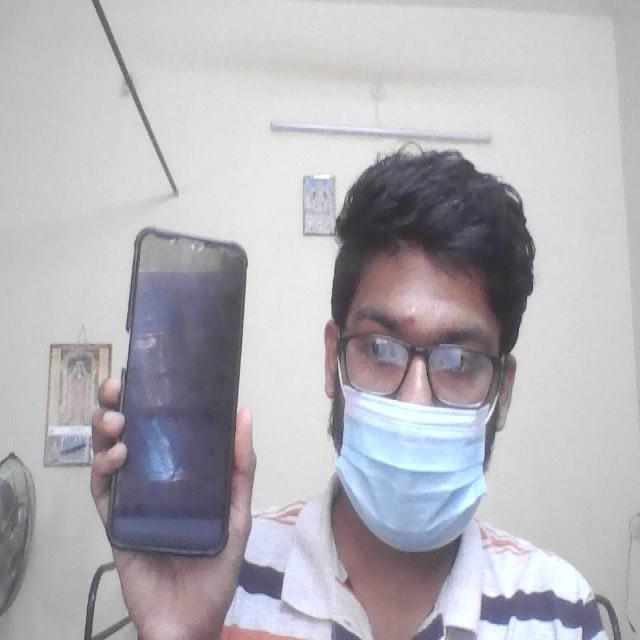Mobile: (94, 221, 260, 572)
